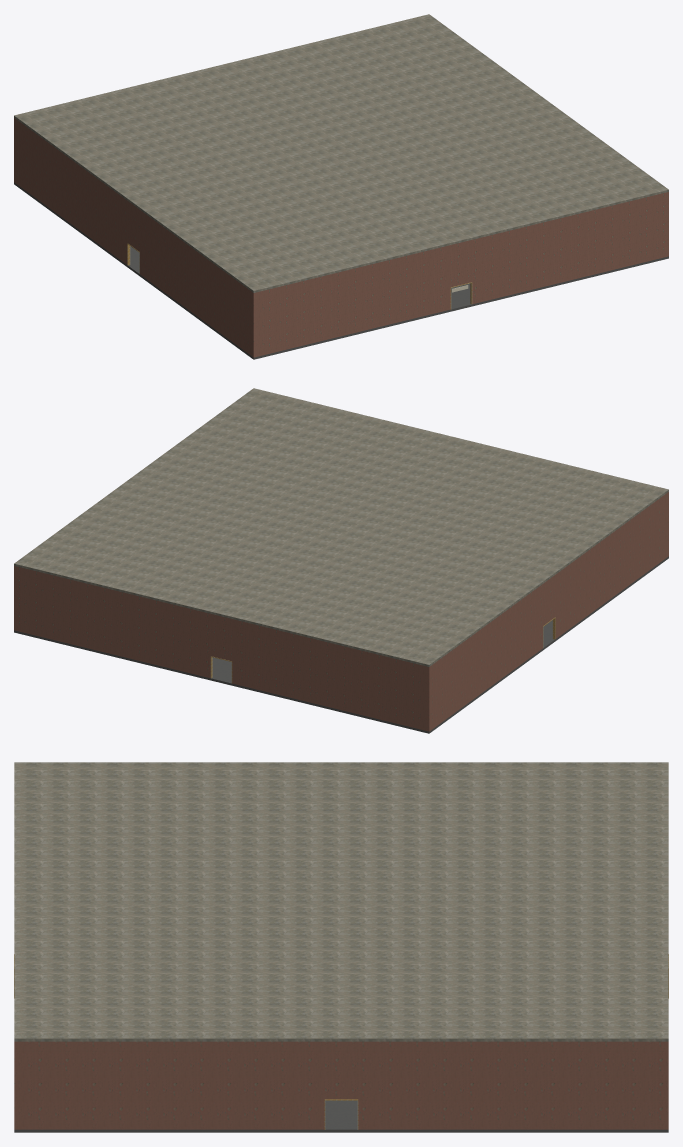
File: zone_hub.glb
The picture shows the model from 3 angles, top to bottom: view 1: azimuth 30°, elevation 25°; view 2: azimuth 150°, elevation 25°; view 3: azimuth 270°, elevation 25°; orthographic projection. The views are drawn at different scales.
Visible parts, largest first — view 1: H_ceil_slab, H_shell_walls, H_shell_floor; view 2: H_ceil_slab, H_shell_walls, H_shell_floor; view 3: H_ceil_slab, H_shell_walls, H_shell_floor.
Part boxes in pixels (left/top/right/bottom): H_ceil_slab: left=14, top=14, right=668, bottom=292; H_shell_walls: left=14, top=118, right=668, bottom=357; H_shell_floor: left=14, top=182, right=668, bottom=359; H_ceil_slab: left=14, top=388, right=668, bottom=666; H_shell_walls: left=14, top=492, right=668, bottom=731; H_shell_floor: left=14, top=556, right=668, bottom=733; H_ceil_slab: left=14, top=762, right=668, bottom=1041; H_shell_walls: left=14, top=1041, right=668, bottom=1129; H_shell_floor: left=14, top=1100, right=668, bottom=1132.
Bounding box in the file's own units: 60.66 × 9.6 × 60.66.
27 materials, 11 textured.
